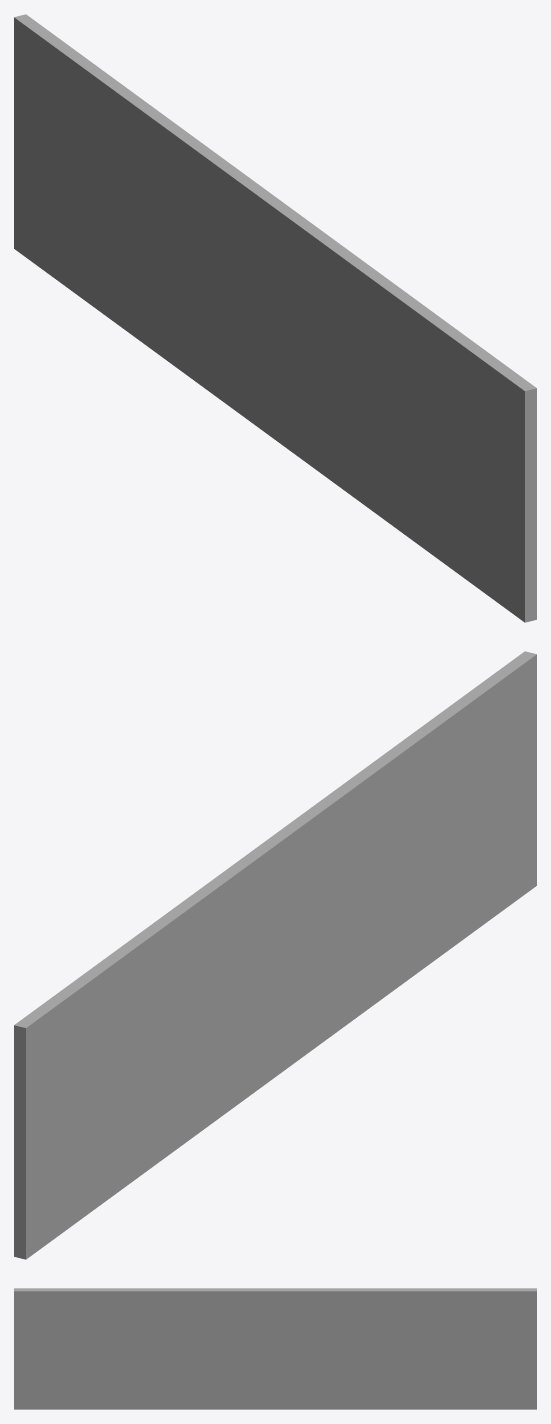
File: Window01_3x12_light.fbx
The picture shows the model from 3 angles, top to bottom: view 1: azimuth 30°, elevation 25°; view 2: azimuth 150°, elevation 25°; view 3: azimuth 270°, elevation 25°; orthographic projection. The views are drawn at different scales.
Visible parts, largest first — view 1: Cube#2; view 2: Cube#2; view 3: Cube#2.
Part boxes in pixels (<box>): Cube#2: <box>14,14,536,622</box>; Cube#2: <box>14,651,536,1259</box>; Cube#2: <box>14,1288,536,1409</box>.
Bounding box in the file's own units: 0.3283 × 6 × 24.
2 materials, 2 textured.
